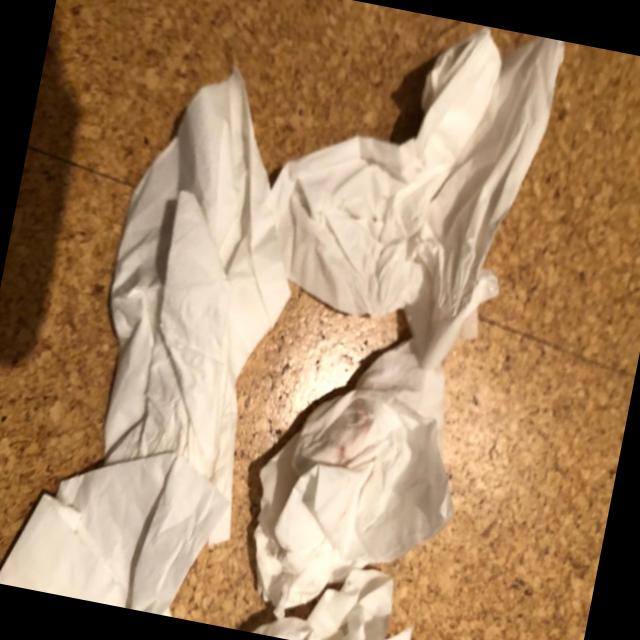organic waste: (64, 42, 335, 552), (243, 0, 566, 388), (221, 297, 493, 640), (0, 422, 232, 622), (250, 541, 429, 640)
